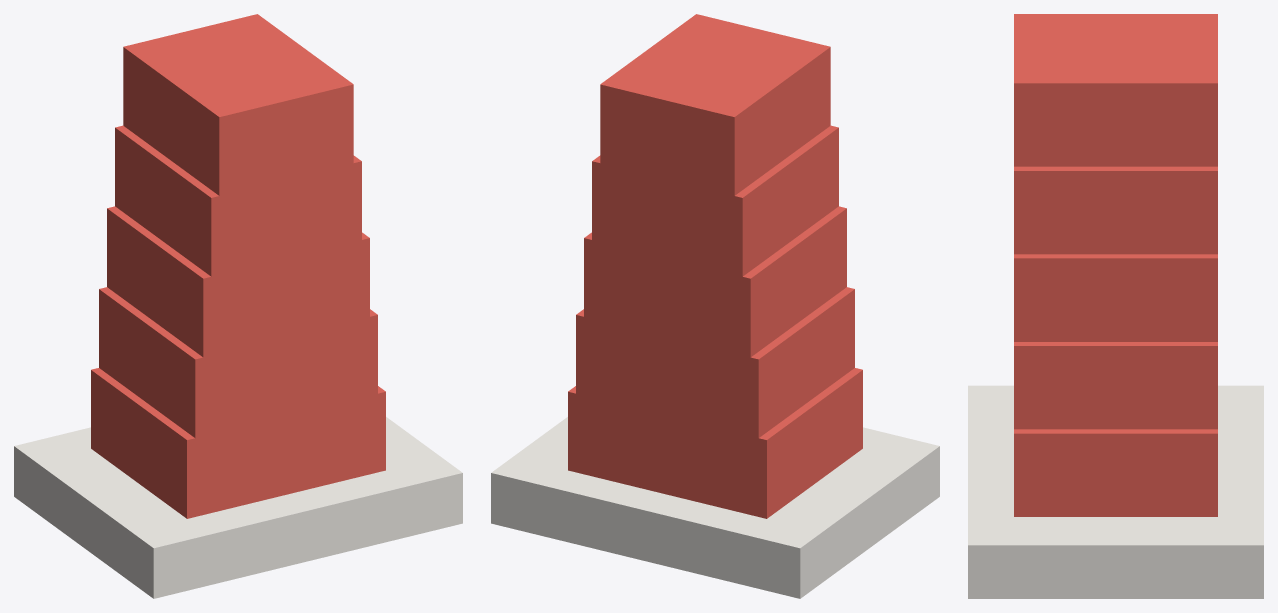
The model's file is training_corner-lv5.glb.
3 views of the same model, side by side, from view 1: azimuth 30°, elevation 25°; view 2: azimuth 150°, elevation 25°; view 3: azimuth 270°, elevation 25° (orthographic). The views are drawn at different scales.
Parts seen in each view (by area): view 1: Base, Level5, Level1, Level2, Level3, Level4; view 2: Base, Level5, Level1, Level2, Level3, Level4; view 3: Base, Level5, Level4, Level1, Level2, Level3.
Boxes of the visible parts, x1=… form: Base: x1=14, y1=417, x2=462, y2=598; Level5: x1=123, y1=14, x2=353, y2=195; Level1: x1=91, y1=368, x2=385, y2=518; Level2: x1=99, y1=287, x2=377, y2=438; Level3: x1=107, y1=206, x2=369, y2=357; Level4: x1=115, y1=125, x2=361, y2=276; Base: x1=491, y1=417, x2=939, y2=598; Level5: x1=600, y1=14, x2=830, y2=195; Level1: x1=568, y1=368, x2=862, y2=518; Level2: x1=576, y1=287, x2=854, y2=438; Level3: x1=584, y1=206, x2=846, y2=357; Level4: x1=592, y1=125, x2=838, y2=276; Base: x1=968, y1=385, x2=1263, y2=598; Level5: x1=1014, y1=14, x2=1217, y2=166; Level4: x1=1014, y1=166, x2=1217, y2=254; Level1: x1=1014, y1=429, x2=1217, y2=516; Level2: x1=1014, y1=342, x2=1217, y2=429; Level3: x1=1014, y1=254, x2=1217, y2=341.
Size of the model in its own units: 1.15 by 1.58 by 0.9.
